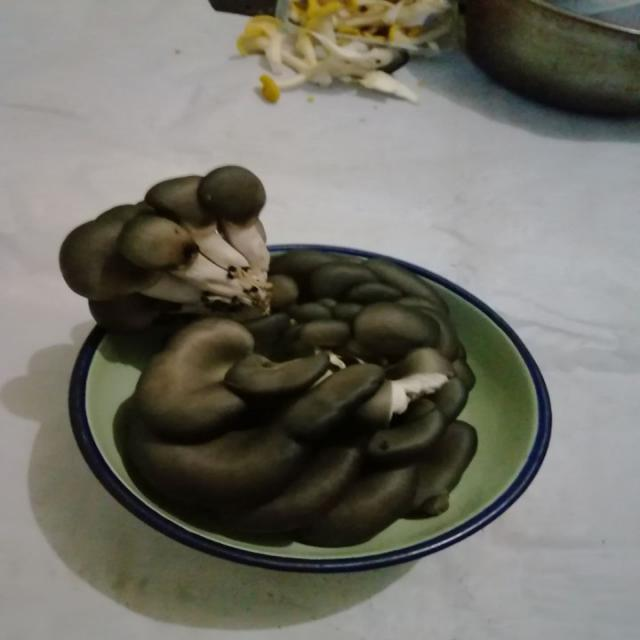Pleurotus ostreatus: (60, 170, 481, 550)
